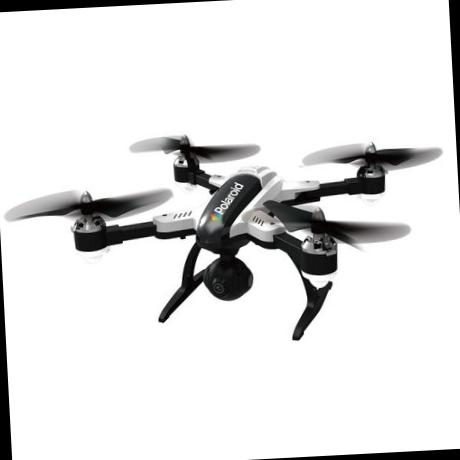drone: (4, 104, 458, 340)
